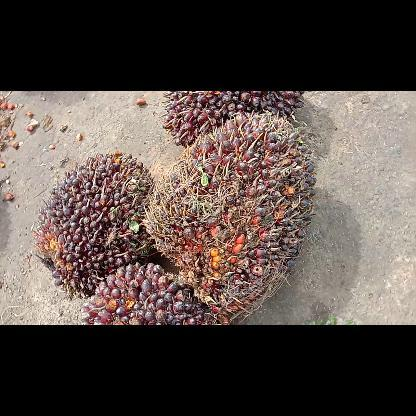Kurang masak: (141, 110, 316, 322), (32, 150, 160, 298), (80, 262, 228, 324), (162, 91, 304, 149)
